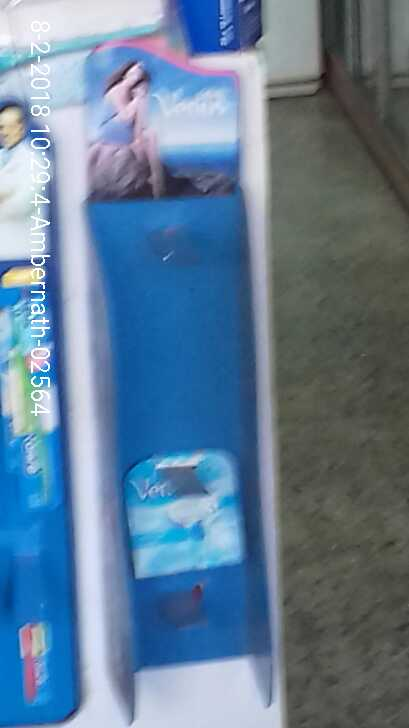venus: (125, 451, 245, 570)
